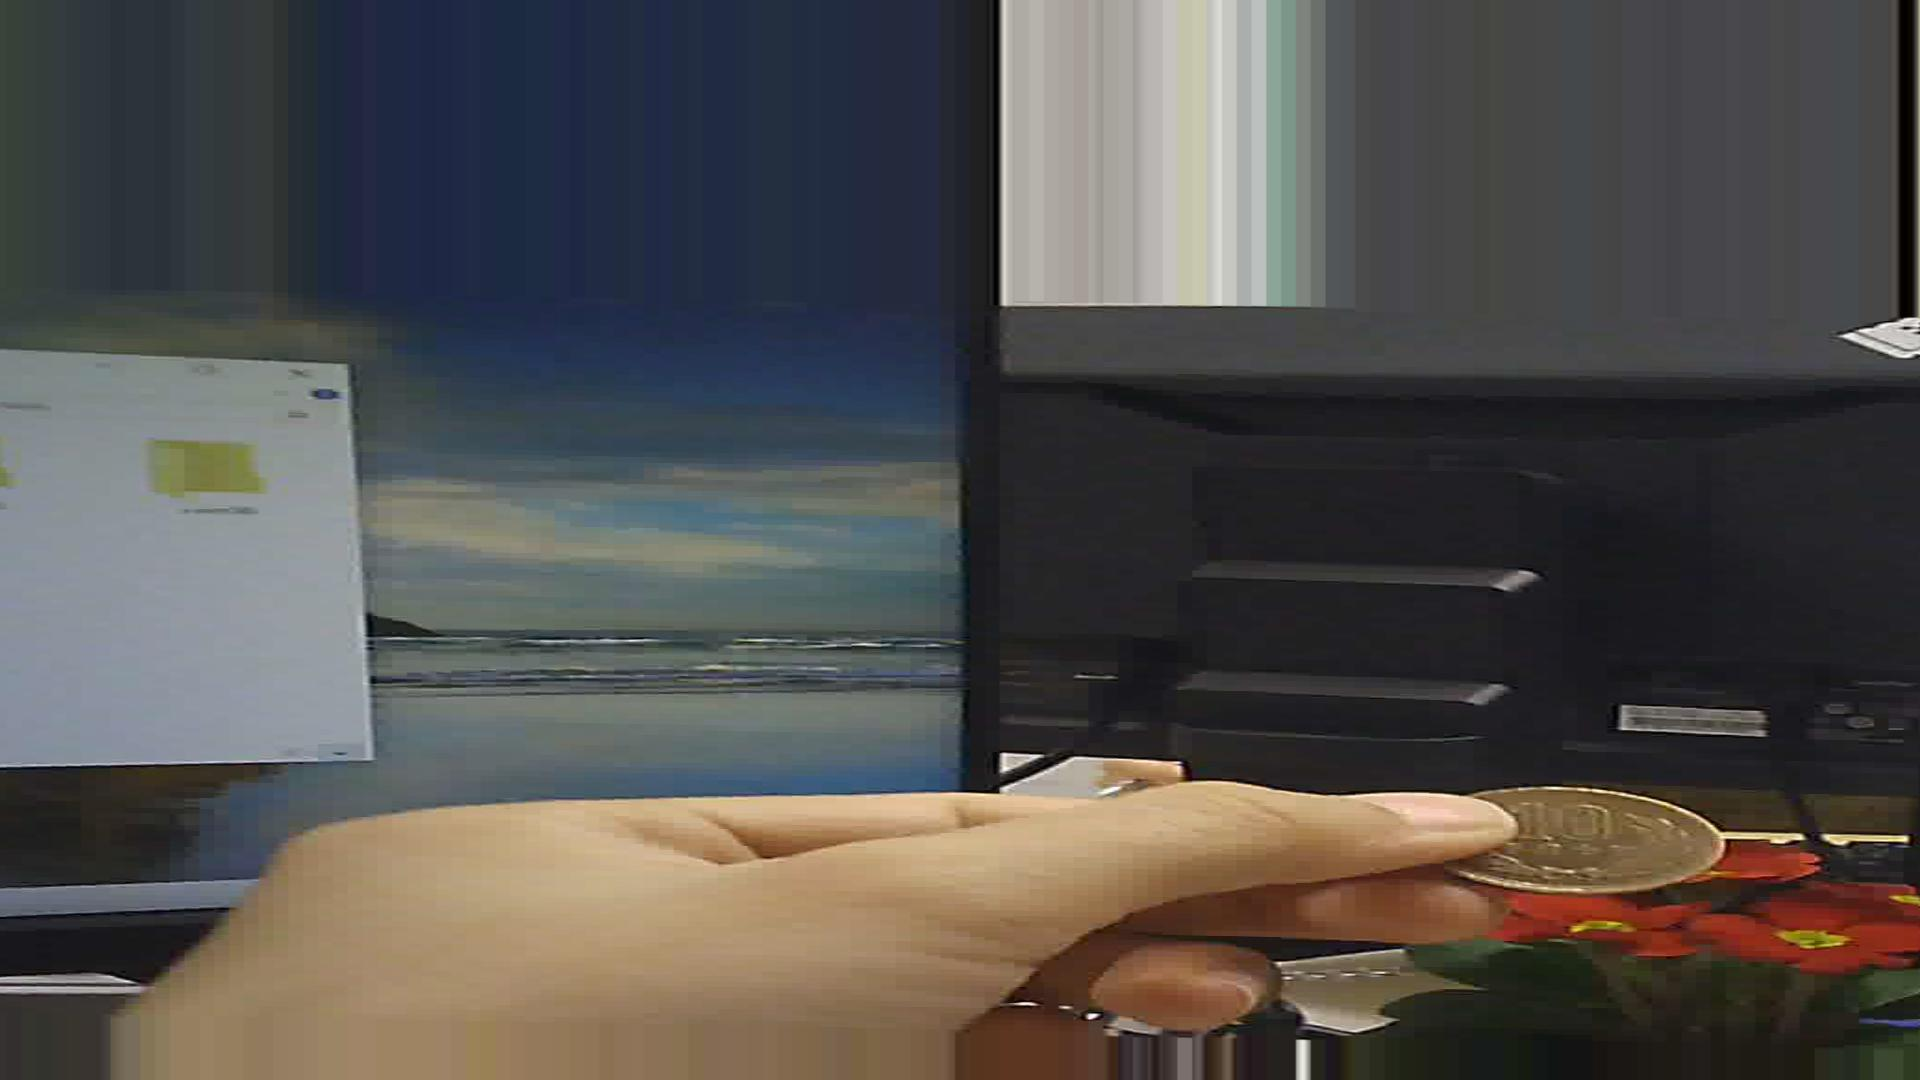10 Yen: (1423, 775, 1717, 899)
